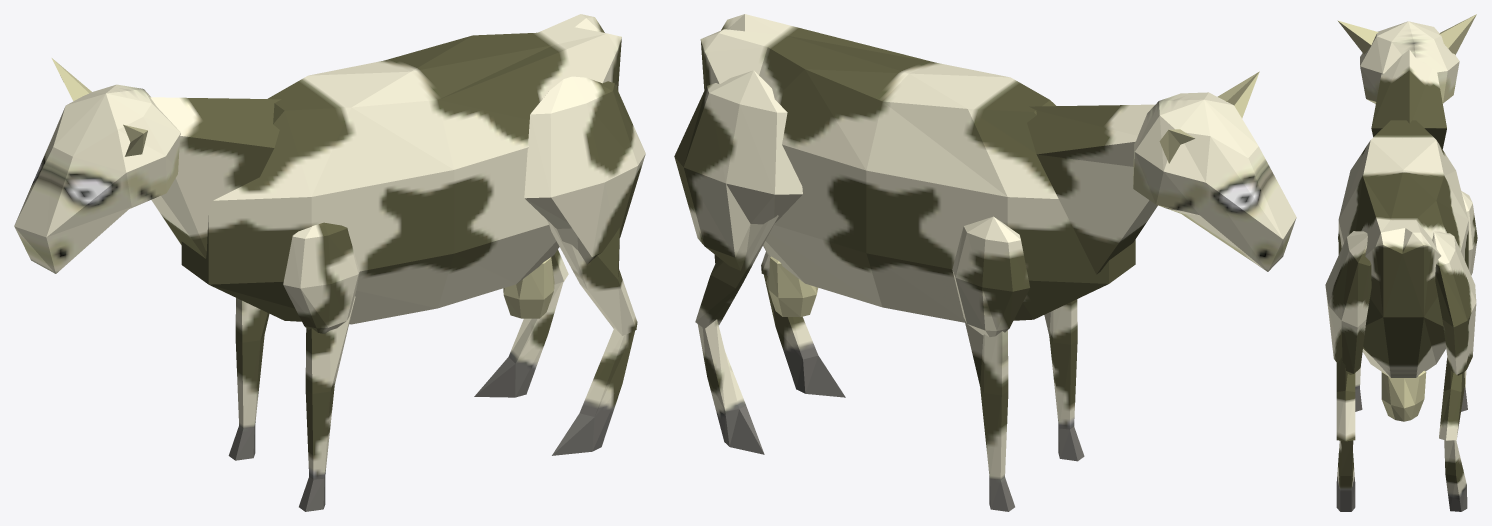
The model's file is Cow3.glb.
3 views of the same model, side by side, from view 1: azimuth 30°, elevation 25°; view 2: azimuth 150°, elevation 25°; view 3: azimuth 270°, elevation 25° (orthographic). The views are drawn at different scales.
Parts seen in each view (by area): view 1: Cow3; view 2: Cow3; view 3: Cow3.
Part boxes in pixels (x1,y1,x2,y2): Cow3: (14,14,645,511); Cow3: (674,14,1296,511); Cow3: (1325,14,1477,511).
Bounding box in the file's own units: 160 × 112 × 47.16.
Materials: 1 (1 with a texture image).
